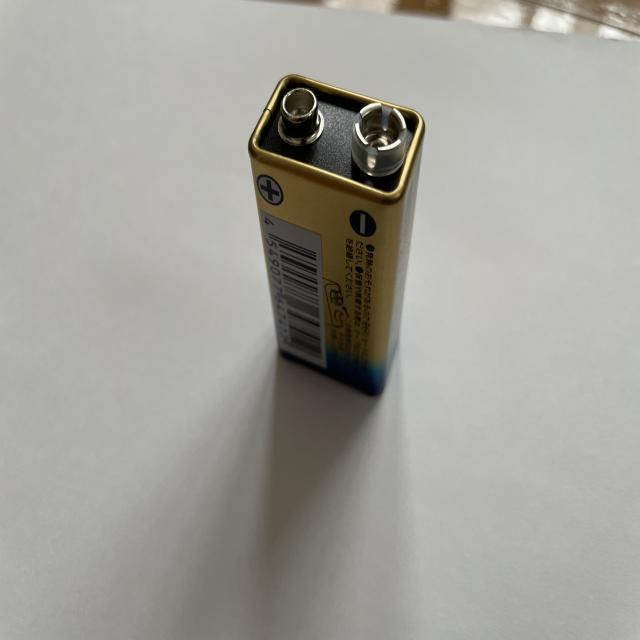9V: (248, 74, 427, 398)
